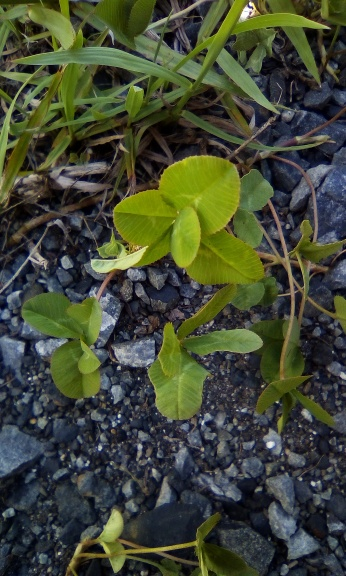4leaf: (111, 155, 266, 285)
